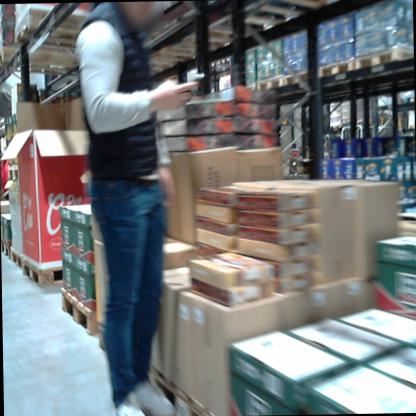pallet: (141, 361, 227, 416), (10, 9, 100, 55), (0, 37, 91, 75), (209, 0, 326, 28), (21, 251, 80, 289), (59, 286, 99, 339), (93, 319, 135, 366), (352, 46, 413, 77), (313, 58, 353, 82), (282, 63, 316, 91), (256, 72, 286, 94), (228, 76, 256, 93), (11, 246, 26, 273), (5, 163, 22, 179), (1, 238, 13, 259)
